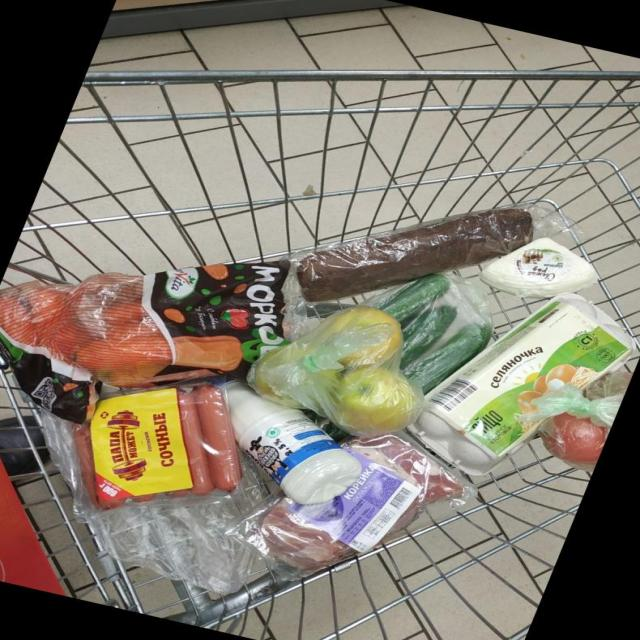Apple: (332, 366, 424, 437), (316, 306, 402, 367), (247, 345, 303, 409), (316, 369, 339, 392)
Bread: (296, 208, 534, 302)
Carrot: (72, 333, 172, 374), (0, 287, 38, 345), (32, 285, 65, 335), (104, 302, 146, 324)
Cheese: (480, 238, 597, 297)
Cucumber: (402, 323, 491, 392), (372, 274, 450, 323), (399, 305, 458, 368)
Eggs: (409, 293, 633, 476)
Meat: (244, 433, 474, 576)
Milk: (223, 381, 360, 504)
Sausages: (73, 385, 242, 507)
Tomatoes: (540, 414, 607, 470)
